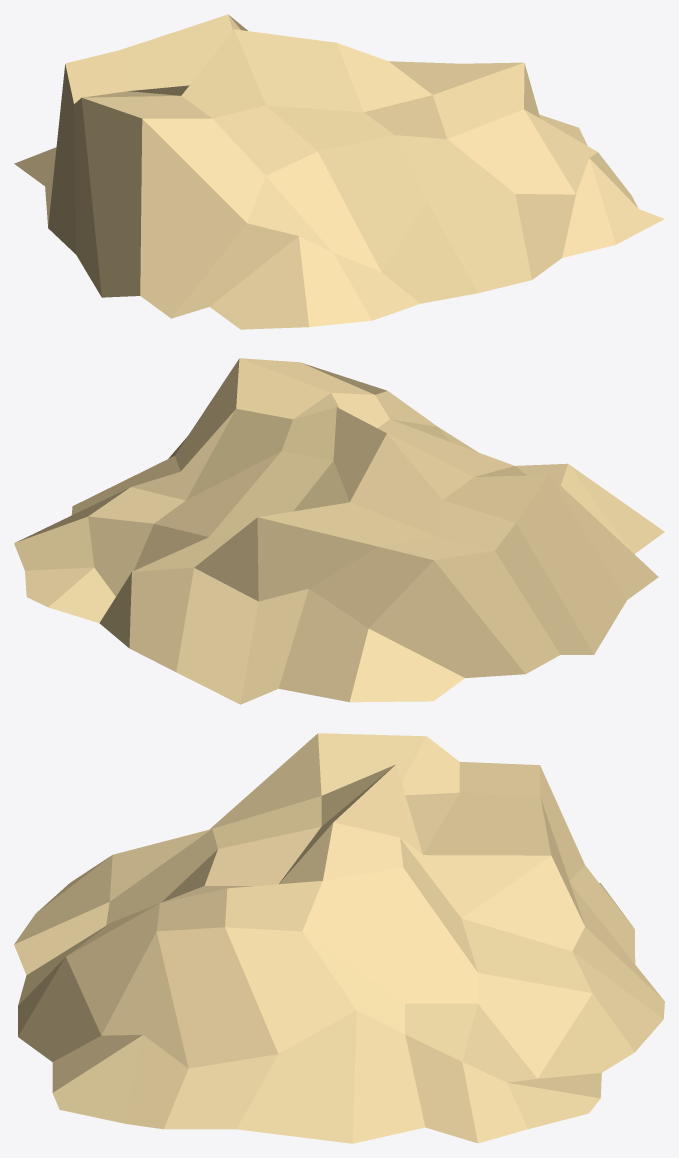
Rendered from stoneOnTheGround.gltf.
3 views of the same model, one above another, from view 1: azimuth 30°, elevation 25°; view 2: azimuth 150°, elevation 25°; view 3: azimuth 270°, elevation 25° (orthographic). The views are drawn at different scales.
Visible parts, largest first — view 1: Plane; view 2: Plane; view 3: Plane.
Part boxes in pixels (<box>): Plane: <box>14,14,664,329</box>; Plane: <box>14,358,664,704</box>; Plane: <box>14,733,664,1143</box>.
Bounding box in the file's own units: 4.76 × 1.84 × 4.6.
